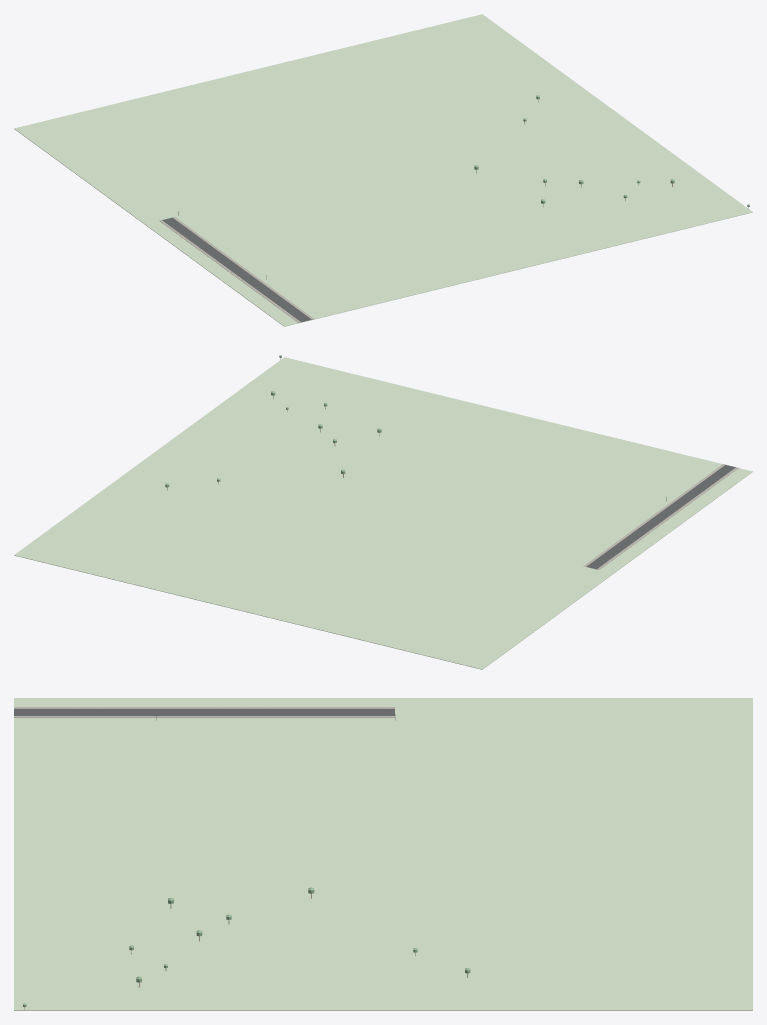
Rendered from chunk_2_0_low.glb.
The picture shows the model from 3 angles, top to bottom: view 1: azimuth 30°, elevation 25°; view 2: azimuth 150°, elevation 25°; view 3: azimuth 270°, elevation 25°; orthographic projection. The views are drawn at different scales.
Parts seen in each view (by area): view 1: city_grass, city_world_asphalt, city_world_sidewalk; view 2: city_grass, city_world_asphalt, city_world_sidewalk; view 3: city_grass, city_world_asphalt, city_world_sidewalk.
Part boxes in pixels (box(x1,y1,x2,y2)): city_grass: box(14, 14, 752, 326); city_world_asphalt: box(162, 217, 311, 322); city_world_sidewalk: box(159, 217, 313, 322); city_grass: box(14, 357, 752, 669); city_world_asphalt: box(586, 465, 735, 569); city_world_sidewalk: box(584, 464, 738, 569); city_grass: box(14, 698, 752, 1010); city_world_asphalt: box(14, 709, 394, 715); city_world_sidewalk: box(14, 707, 394, 717).
Bounding box in the file's own units: 513 × 8.98 × 512.
